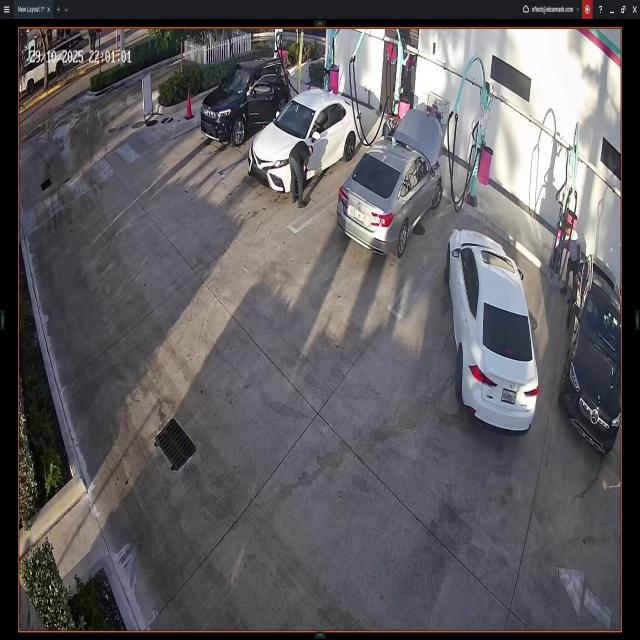Car: (448, 228, 537, 432), (339, 115, 440, 257), (562, 254, 620, 455), (252, 86, 362, 190), (201, 62, 289, 142)
